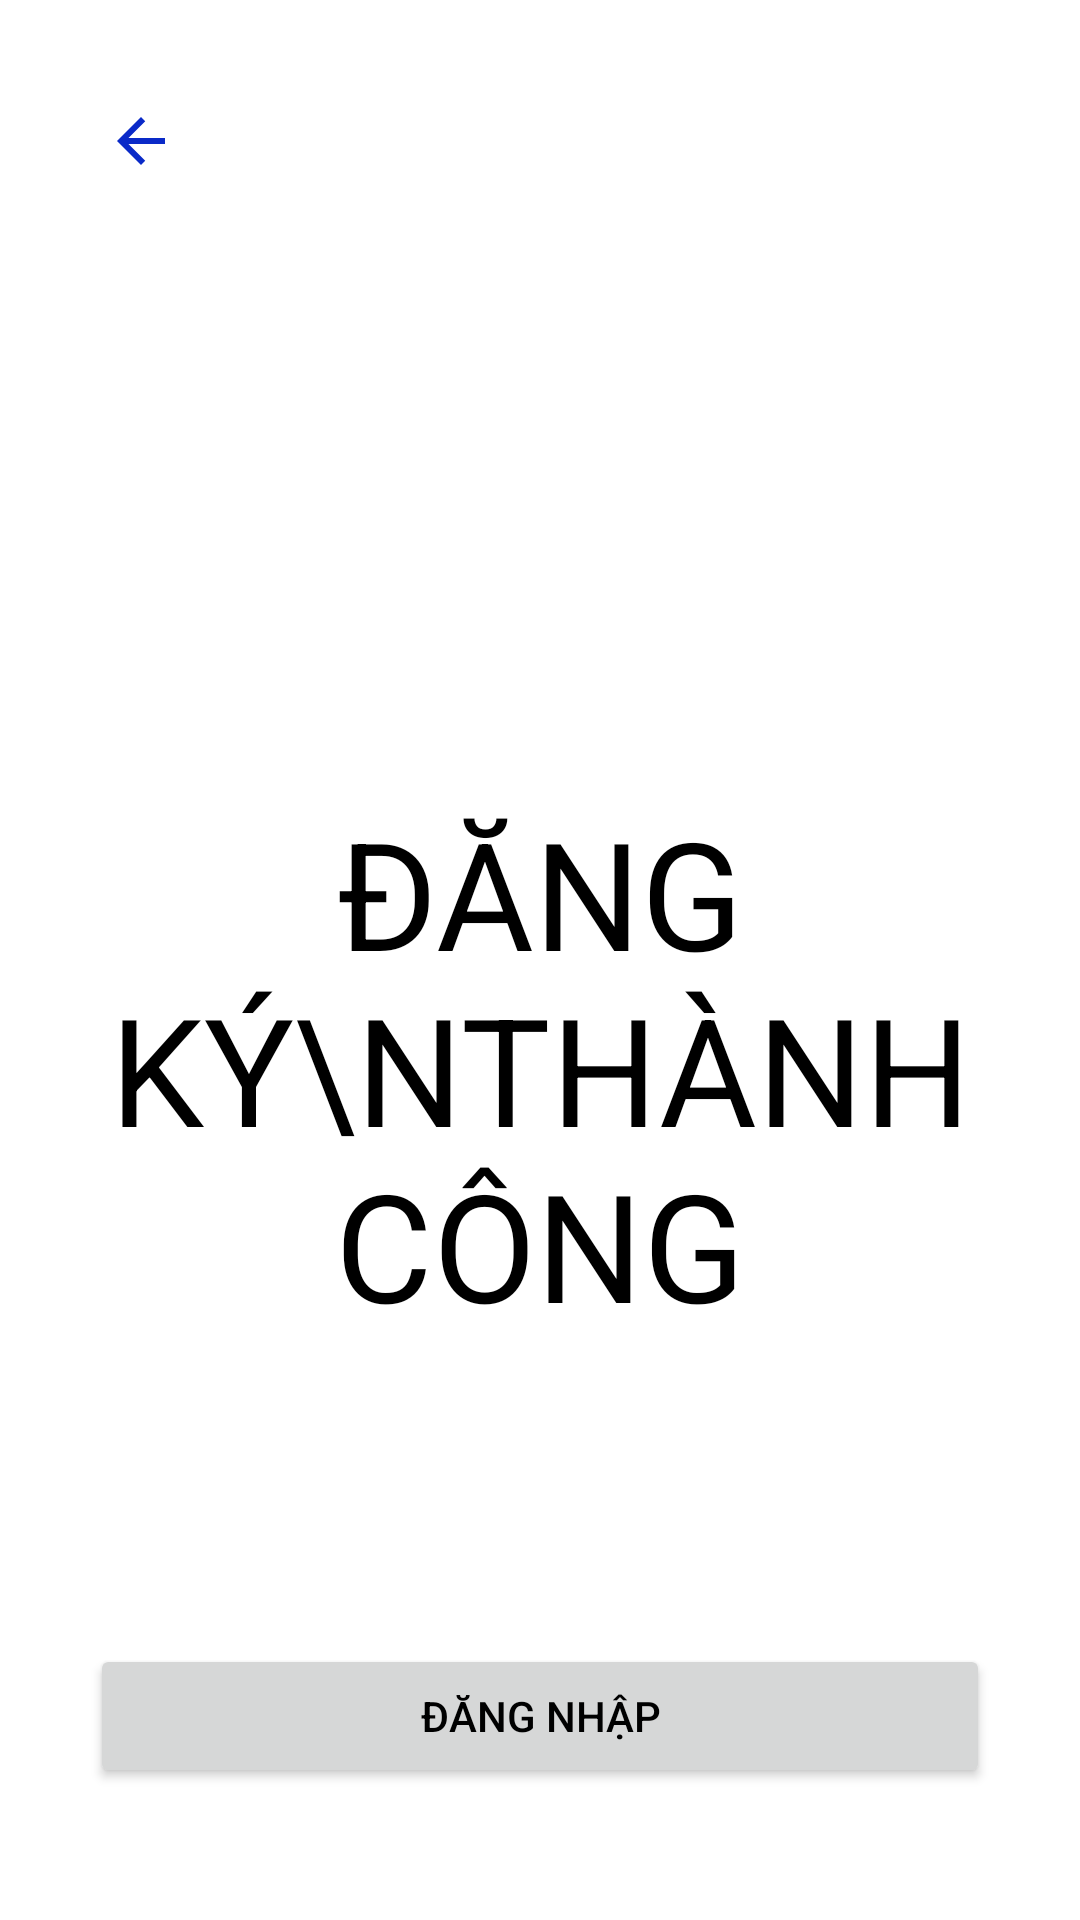

Named icons in this screenshot (1080w x 1920h) and their centers, (x,y):
arrow back: (141,141)
